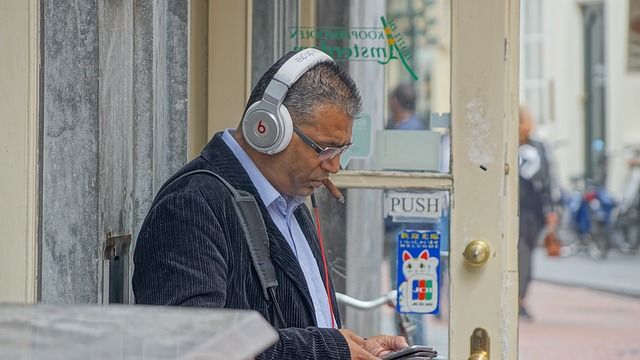headphones: (242, 48, 335, 155)
